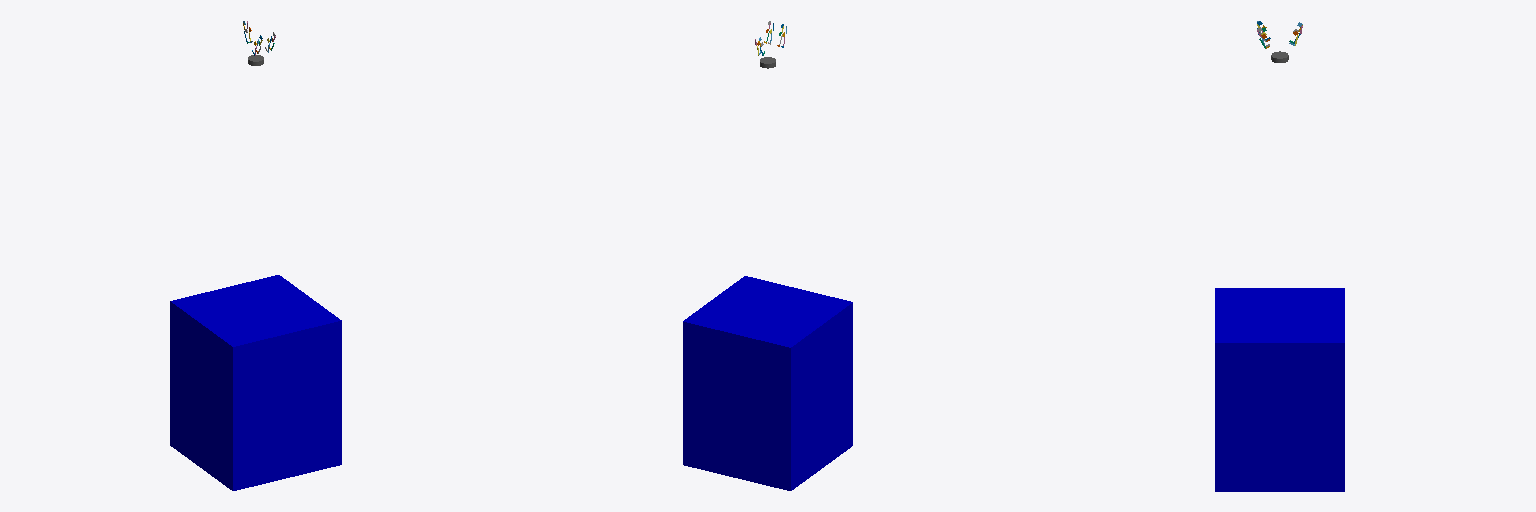
--- What the picture shows (computed from the rendered views, not written in the file) ---
Views: 3 orthographic renders of the robot side by side, from view 1: azimuth 30°, elevation 25°; view 2: azimuth 150°, elevation 25°; view 3: azimuth 270°, elevation 25°.
Model iiwa_3finger with 51 links and 50 joints (46 revolute, 4 fixed), rooted at world, posed every joint at zero.
Links seen in each view (by area): view 1: world; view 2: world; view 3: world.
Link boxes in pixels (x1,y1,x2,y2): world: [170, 275, 341, 490]; world: [683, 276, 852, 490]; world: [1215, 288, 1344, 491].
Size in the robot's own frame: 0.6 by 0.6 by 2.25 metres.
Meshes: 14 distinct files referenced, 1 mesh visuals loaded (1 binary STL); not drawn: 21 (reference not matched to a file when rendering).

The robot description file, URDF, robot "iiwa_3finger":
<?xml version="1.0" ?>
<!-- =================================================================================== -->
<!-- |    This document was autogenerated by xacro from iiwa_3finger.urdf.xacro        | -->
<!-- |    EDITING THIS FILE BY HAND IS NOT RECOMMENDED                                 | -->
<!-- =================================================================================== -->
<!-- Here we define the robot, we named it "iiwa14_3finger_gripper" -->
<robot name="iiwa_3finger" xmlns:xacro="http://www.ros.org/wiki/xacro">
  <!--Import the iiwa14 macro -->
  <!-- Import all Gazebo-customization elements, including Gazebo colors -->
  <!-- Import Transmissions -->
  <!-- Include Utilities -->
  <!-- The following macros are adapted from the LWR 4 definitions of the RCPRG - https://github.com/RCPRG-ros-pkg/lwr_robot -->
  <!--Little helper macros to define the inertia matrix needed for links.-->
  <!--Cuboid-->
  <!--Cylinder: length is along the y-axis! -->
  <!-- some constants -->
  <!-- Import Rviz colors -->
  <material name="Black">
    <color rgba="0.0 0.0 0.0 1.0"/>
  </material>
  <material name="Blue">
    <color rgba="0.0 0.0 0.8 1.0"/>
  </material>
  <material name="Green">
    <color rgba="0.0 0.8 0.0 1.0"/>
  </material>
  <material name="Grey">
    <color rgba="0.4 0.4 0.4 1.0"/>
  </material>
  <material name="Orange">
    <color rgba="1.0 0.423529411765 0.0392156862745 1.0"/>
  </material>
  <material name="Brown">
    <color rgba="0.870588235294 0.811764705882 0.764705882353 1.0"/>
  </material>
  <material name="Red">
    <color rgba="0.8 0.0 0.0 1.0"/>
  </material>
  <material name="White">
    <color rgba="1.0 1.0 1.0 1.0"/>
  </material>
  <!--Build finger model -->
  <!--  Arguments for the iiwa14 macro  -->
  <!-- xacro:arg name="prefix" default=""/-->
  <!--  Define the origin of your 3D space
  Here we define a box lying at 0,0,0 with some dimensions, in reality our robot is place on top of a metal cart with those dimensions.
  This will include the cart in the scene and avoid the robot to hit it when using MoveIt! 
  If you don't want to have that you can define a basic world link (see commented lines)
  -->
  <!--     <link name="world"/> -->
  <link name="world">
    <visual>
      <origin rpy="0 0 0" xyz="0 0 0.38"/>
      <geometry>
        <box size="0.60 0.60 0.76"/>
      </geometry>
      <material name="Blue">
      </material>
    </visual>
    <collision>
      <origin rpy="0 0 0" xyz="0 0 0.38"/>
      <geometry>
        <box size="0.60 0.60 0.76"/>
      </geometry>
      <material name="Blue">
      </material>
    </collision>
  </link>
  <gazebo reference="world">
    <static>true</static>
  </gazebo>
  <!-- Here we insert an iiwa14 robot in the scene, it's origin is just on top of the box previously defined. You can use 0,0,0 if you don't have that. -->
  <!--joint between {parent} and link_0-->
  <joint name="world_iiwa_joint" type="fixed">
    <origin rpy="0 0 0" xyz="0 0 0.76"/>
    <parent link="world"/>
    <child link="iiwa_link_0"/>
  </joint>
  <link name="iiwa_link_0">
    <inertial>
      <origin rpy="0 0 0" xyz="-0.1 0 0.07"/>
      <mass value="5"/>
      <inertia ixx="0.05" ixy="0" ixz="0" iyy="0.06" iyz="0" izz="0.03"/>
    </inertial>
    <visual>
      <origin rpy="0 0 0" xyz="0 0 0"/>
      <geometry>
        <mesh filename="package://iiwa_description/meshes/iiwa14/visual/link_0.stl"/>
      </geometry>
      <material name="Grey"/>
    </visual>
    <collision>
      <origin rpy="0 0 0" xyz="0 0 0"/>
      <geometry>
        <mesh filename="package://iiwa_description/meshes/iiwa14/collision/link_0.stl"/>
      </geometry>
      <material name="Grey"/>
    </collision>
    <self_collision_checking>
      <origin rpy="0 0 0" xyz="0 0 0"/>
      <geometry>
        <capsule length="0.25" radius="0.15"/>
      </geometry>
    </self_collision_checking>
  </link>
  <!-- joint between link_0 and link_1 -->
  <joint name="iiwa_joint_1" type="revolute">
    <parent link="iiwa_link_0"/>
    <child link="iiwa_link_1"/>
    <origin rpy="0 0 0" xyz="0 0 0.1575"/>
    <axis xyz="0 0 1"/>
    <limit effort="300" lower="-2.96705972839" upper="2.96705972839" velocity="10"/>
    <safety_controller k_position="100" k_velocity="2" soft_lower_limit="-2.93215314335" soft_upper_limit="2.93215314335"/>
    <dynamics damping="0.5"/>
  </joint>
  <link name="iiwa_link_1">
    <inertial>
      <origin rpy="0 0 0" xyz="0 -0.03 0.12"/>
      <mass value="4"/>
      <inertia ixx="0.1" ixy="0" ixz="0" iyy="0.09" iyz="0" izz="0.02"/>
    </inertial>
    <visual>
      <origin rpy="0 0 0" xyz="0 0 0"/>
      <geometry>
        <mesh filename="package://iiwa_description/meshes/iiwa14/visual/link_1.stl"/>
      </geometry>
      <material name="Orange"/>
    </visual>
    <collision>
      <origin rpy="0 0 0" xyz="0 0 0"/>
      <geometry>
        <mesh filename="package://iiwa_description/meshes/iiwa14/collision/link_1.stl"/>
      </geometry>
      <material name="Orange"/>
    </collision>
  </link>
  <!-- joint between link_1 and link_2 -->
  <joint name="iiwa_joint_2" type="revolute">
    <parent link="iiwa_link_1"/>
    <child link="iiwa_link_2"/>
    <origin rpy="1.57079632679   0 3.14159265359" xyz="0 0 0.2025"/>
    <axis xyz="0 0 1"/>
    <limit effort="300" lower="-2.09439510239" upper="2.09439510239" velocity="10"/>
    <safety_controller k_position="100" k_velocity="2" soft_lower_limit="-2.05948851735" soft_upper_limit="2.05948851735"/>
    <dynamics damping="0.5"/>
  </joint>
  <link name="iiwa_link_2">
    <inertial>
      <origin rpy="0 0 0" xyz="0.0003 0.059 0.042"/>
      <mass value="4"/>
      <inertia ixx="0.05" ixy="0" ixz="0" iyy="0.018" iyz="0" izz="0.044"/>
    </inertial>
    <visual>
      <origin rpy="0 0 0" xyz="0 0 0"/>
      <geometry>
        <mesh filename="package://iiwa_description/meshes/iiwa14/visual/link_2.stl"/>
      </geometry>
      <material name="Orange"/>
    </visual>
    <collision>
      <origin rpy="0 0 0" xyz="0 0 0"/>
      <geometry>
        <mesh filename="package://iiwa_description/meshes/iiwa14/collision/link_2.stl"/>
      </geometry>
      <material name="Orange"/>
    </collision>
  </link>
  <!-- joint between link_2 and link_3 -->
  <joint name="iiwa_joint_3" type="revolute">
    <parent link="iiwa_link_2"/>
    <child link="iiwa_link_3"/>
    <origin rpy="1.57079632679 0 3.14159265359" xyz="0 0.2045 0"/>
    <axis xyz="0 0 1"/>
    <limit effort="300" lower="-2.96705972839" upper="2.96705972839" velocity="10"/>
    <safety_controller k_position="100" k_velocity="2" soft_lower_limit="-2.93215314335" soft_upper_limit="2.93215314335"/>
    <dynamics damping="0.5"/>
  </joint>
  <link name="iiwa_link_3">
    <inertial>
      <origin rpy="0 0 0" xyz="0 0.03 0.13"/>
      <mass value="3"/>
      <inertia ixx="0.08" ixy="0" ixz="0" iyy="0.075" iyz="0" izz="0.01"/>
    </inertial>
    <visual>
      <origin rpy="0 0 0" xyz="0 0 0"/>
      <geometry>
        <mesh filename="package://iiwa_description/meshes/iiwa14/visual/link_3.stl"/>
      </geometry>
      <material name="Orange"/>
    </visual>
    <collision>
      <origin rpy="0 0 0" xyz="0 0 0"/>
      <geometry>
        <mesh filename="package://iiwa_description/meshes/iiwa14/collision/link_3.stl"/>
      </geometry>
      <material name="Orange"/>
    </collision>
  </link>
  <!-- joint between link_3 and link_4 -->
  <joint name="iiwa_joint_4" type="revolute">
    <parent link="iiwa_link_3"/>
    <child link="iiwa_link_4"/>
    <origin rpy="1.57079632679 0 0" xyz="0 0 0.2155"/>
    <axis xyz="0 0 1"/>
    <limit effort="300" lower="-2.09439510239" upper="2.09439510239" velocity="10"/>
    <safety_controller k_position="100" k_velocity="2" soft_lower_limit="-2.05948851735" soft_upper_limit="2.05948851735"/>
    <dynamics damping="0.5"/>
  </joint>
  <link name="iiwa_link_4">
    <inertial>
      <origin rpy="0 0 0" xyz="0 0.067 0.034"/>
      <mass value="2.7"/>
      <inertia ixx="0.03" ixy="0" ixz="0" iyy="0.01" iyz="0" izz="0.029"/>
    </inertial>
    <visual>
      <origin rpy="0 0 0" xyz="0 0 0"/>
      <geometry>
        <mesh filename="package://iiwa_description/meshes/iiwa14/visual/link_4.stl"/>
      </geometry>
      <material name="Orange"/>
    </visual>
    <collision>
      <origin rpy="0 0 0" xyz="0 0 0"/>
      <geometry>
        <mesh filename="package://iiwa_description/meshes/iiwa14/collision/link_4.stl"/>
      </geometry>
      <material name="Orange"/>
    </collision>
  </link>
  <!-- joint between link_4 and link_5 -->
  <joint name="iiwa_joint_5" type="revolute">
    <parent link="iiwa_link_4"/>
    <child link="iiwa_link_5"/>
    <origin rpy="-1.57079632679 3.14159265359 0" xyz="0 0.1845 0"/>
    <axis xyz="0 0 1"/>
    <limit effort="300" lower="-2.96705972839" upper="2.96705972839" velocity="10"/>
    <safety_controller k_position="100" k_velocity="2" soft_lower_limit="-2.93215314335" soft_upper_limit="2.93215314335"/>
    <dynamics damping="0.5"/>
  </joint>
  <link name="iiwa_link_5">
    <inertial>
      <origin rpy="0 0 0" xyz="0.0001 0.021 0.076"/>
      <mass value="1.7"/>
      <inertia ixx="0.02" ixy="0" ixz="0" iyy="0.018" iyz="0" izz="0.005"/>
    </inertial>
    <visual>
      <origin rpy="0 0 0" xyz="0 0 0"/>
      <geometry>
        <mesh filename="package://iiwa_description/meshes/iiwa14/visual/link_5.stl"/>
      </geometry>
      <material name="Orange"/>
    </visual>
    <collision>
      <origin rpy="0 0 0" xyz="0 0 0"/>
      <geometry>
        <mesh filename="package://iiwa_description/meshes/iiwa14/collision/link_5.stl"/>
      </geometry>
      <material name="Orange"/>
    </collision>
  </link>
  <!-- joint between link_5 and link_6 -->
  <joint name="iiwa_joint_6" type="revolute">
    <parent link="iiwa_link_5"/>
    <child link="iiwa_link_6"/>
    <origin rpy="1.57079632679 0 0" xyz="0 0 0.2155"/>
    <axis xyz="0 0 1"/>
    <limit effort="300" lower="-2.09439510239" upper="2.09439510239" velocity="10"/>
    <safety_controller k_position="100" k_velocity="2" soft_lower_limit="-2.05948851735" soft_upper_limit="2.05948851735"/>
    <dynamics damping="0.5"/>
  </joint>
  <link name="iiwa_link_6">
    <inertial>
      <origin rpy="0 0 0" xyz="0 0.0006 0.0004"/>
      <mass value="1.8"/>
      <inertia ixx="0.005" ixy="0" ixz="0" iyy="0.0036" iyz="0" izz="0.0047"/>
    </inertial>
    <visual>
      <origin rpy="0 0 0" xyz="0 0 0"/>
      <geometry>
        <mesh filename="package://iiwa_description/meshes/iiwa14/visual/link_6.stl"/>
      </geometry>
      <material name="Orange"/>
    </visual>
    <collision>
      <origin rpy="0 0 0" xyz="0 0 0"/>
      <geometry>
        <mesh filename="package://iiwa_description/meshes/iiwa14/collision/link_6.stl"/>
      </geometry>
      <material name="Orange"/>
    </collision>
  </link>
  <!-- joint between link_6 and link_7 -->
  <joint name="iiwa_joint_7" type="revolute">
    <parent link="iiwa_link_6"/>
    <child link="iiwa_link_7"/>
    <origin rpy="-1.57079632679 3.14159265359 0" xyz="0 0.081 0"/>
    <axis xyz="0 0 1"/>
    <limit effort="300" lower="-3.05432619099" upper="3.05432619099" velocity="10"/>
    <safety_controller k_position="100" k_velocity="2" soft_lower_limit="-3.01941960595" soft_upper_limit="3.01941960595"/>
    <dynamics damping="0.5"/>
  </joint>
  <link name="iiwa_link_7">
    <inertial>
      <origin rpy="0 0 0" xyz="0 0 0.02"/>
      <mass value="0.3"/>
      <inertia ixx="0.001" ixy="0" ixz="0" iyy="0.001" iyz="0" izz="0.001"/>
    </inertial>
    <visual>
      <origin rpy="0 0 0" xyz="0 0 0"/>
      <geometry>
        <mesh filename="package://iiwa_description/meshes/iiwa14/visual/link_7.stl"/>
      </geometry>
      <material name="Grey"/>
    </visual>
    <collision>
      <origin rpy="0 0 0" xyz="0 0 0"/>
      <geometry>
        <mesh filename="package://iiwa_description/meshes/iiwa14/collision/link_7.stl"/>
      </geometry>
      <material name="Grey"/>
    </collision>
  </link>
  <joint name="iiwa_joint_ee" type="fixed">
    <parent link="iiwa_link_7"/>
    <child link="iiwa_link_ee"/>
    <origin rpy="0 0 0" xyz="0 0 0.045"/>
  </joint>
  <link name="iiwa_link_ee">
    </link>
  <!--Extensions -->
  <!-- Load Gazebo lib and set the robot namespace -->
  <gazebo>
    <plugin filename="libgazebo_ros_control.so" name="gazebo_ros_control">
      <robotNamespace>/iiwa</robotNamespace>
    </plugin>
  </gazebo>
  <!-- Link0 -->
  <gazebo reference="iiwa_link_0">
    <material>Gazebo/Grey</material>
    <mu1>0.2</mu1>
    <mu2>0.2</mu2>
  </gazebo>
  <!-- Link1 -->
  <gazebo reference="iiwa_link_1">
    <material>Gazebo/Orange</material>
    <mu1>0.2</mu1>
    <mu2>0.2</mu2>
  </gazebo>
  <!-- Link2 -->
  <gazebo reference="iiwa_link_2">
    <material>Gazebo/Orange</material>
    <mu1>0.2</mu1>
    <mu2>0.2</mu2>
  </gazebo>
  <!-- Link3 -->
  <gazebo reference="iiwa_link_3">
    <material>Gazebo/Orange</material>
    <mu1>0.2</mu1>
    <mu2>0.2</mu2>
  </gazebo>
  <!-- Link4 -->
  <gazebo reference="iiwa_link_4">
    <material>Gazebo/Orange</material>
    <mu1>0.2</mu1>
    <mu2>0.2</mu2>
  </gazebo>
  <!-- Link5 -->
  <gazebo reference="iiwa_link_5">
    <material>Gazebo/Orange</material>
    <mu1>0.2</mu1>
    <mu2>0.2</mu2>
  </gazebo>
  <!-- Link6 -->
  <gazebo reference="iiwa_link_6">
    <material>Gazebo/Orange</material>
    <mu1>0.2</mu1>
    <mu2>0.2</mu2>
  </gazebo>
  <!-- Link7 -->
  <gazebo reference="iiwa_link_7">
    <material>Gazebo/Grey</material>
    <mu1>0.2</mu1>
    <mu2>0.2</mu2>
  </gazebo>
  <transmission name="iiwa_tran_1">
    <robotNamespace>/iiwa</robotNamespace>
    <type>transmission_interface/SimpleTransmission</type>
    <joint name="iiwa_joint_1">
      <hardwareInterface>PositionJointInterface</hardwareInterface>
    </joint>
    <actuator name="iiwa_motor_1">
      <hardwareInterface>PositionJointInterface</hardwareInterface>
      <mechanicalReduction>1</mechanicalReduction>
    </actuator>
  </transmission>
  <transmission name="iiwa_tran_2">
    <robotNamespace>/iiwa</robotNamespace>
    <type>transmission_interface/SimpleTransmission</type>
    <joint name="iiwa_joint_2">
      <hardwareInterface>PositionJointInterface</hardwareInterface>
    </joint>
    <actuator name="iiwa_motor_2">
      <hardwareInterface>PositionJointInterface</hardwareInterface>
      <mechanicalReduction>1</mechanicalReduction>
    </actuator>
  </transmission>
  <transmission name="iiwa_tran_3">
    <robotNamespace>/iiwa</robotNamespace>
    <type>transmission_interface/SimpleTransmission</type>
    <joint name="iiwa_joint_3">
      <hardwareInterface>PositionJointInterface</hardwareInterface>
    </joint>
    <actuator name="iiwa_motor_3">
      <hardwareInterface>PositionJointInterface</hardwareInterface>
      <mechanicalReduction>1</mechanicalReduction>
    </actuator>
  </transmission>
  <transmission name="iiwa_tran_4">
    <robotNamespace>/iiwa</robotNamespace>
    <type>transmission_interface/SimpleTransmission</type>
    <joint name="iiwa_joint_4">
      <hardwareInterface>PositionJointInterface</hardwareInterface>
    </joint>
    <actuator name="iiwa_motor_4">
      <hardwareInterface>PositionJointInterface</hardwareInterface>
      <mechanicalReduction>1</mechanicalReduction>
    </actuator>
  </transmission>
  <transmission name="iiwa_tran_5">
    <robotNamespace>/iiwa</robotNamespace>
    <type>transmission_interface/SimpleTransmission</type>
    <joint name="iiwa_joint_5">
      <hardwareInterface>PositionJointInterface</hardwareInterface>
    </joint>
    <actuator name="iiwa_motor_5">
      <hardwareInterface>PositionJointInterface</hardwareInterface>
      <mechanicalReduction>1</mechanicalReduction>
    </actuator>
  </transmission>
  <transmission name="iiwa_tran_6">
    <robotNamespace>/iiwa</robotNamespace>
    <type>transmission_interface/SimpleTransmission</type>
    <joint name="iiwa_joint_6">
      <hardwareInterface>PositionJointInterface</hardwareInterface>
    </joint>
    <actuator name="iiwa_motor_6">
      <hardwareInterface>PositionJointInterface</hardwareInterface>
      <mechanicalReduction>1</mechanicalReduction>
    </actuator>
  </transmission>
  <transmission name="iiwa_tran_7">
    <robotNamespace>/iiwa</robotNamespace>
    <type>transmission_interface/SimpleTransmission</type>
    <joint name="iiwa_joint_7">
      <hardwareInterface>PositionJointInterface</hardwareInterface>
    </joint>
    <actuator name="iiwa_motor_7">
      <hardwareInterface>PositionJointInterface</hardwareInterface>
      <mechanicalReduction>1</mechanicalReduction>
    </actuator>
  </transmission>
  <!-- Tool properties -->
  <!--  Here we define a fixed joint between the tip of the iiwa14 and the base of coupling. 
  There is no offset between the two, that means the coupling is attached at the robot flange. -->
  <joint name="tool_joint" type="fixed">
    <parent link="iiwa_link_ee"/>
    <child link="coupling_link"/>
    <origin rpy="1.57079632679 0 0" xyz="-0.04 0.04 0.0"/>
  </joint>
  <!-- Here we define the geometry of the coupling. the mass, center of gravity, inertial were unknown -->
  <link name="coupling_link">
    <visual>
      <origin rpy="0 0 0" xyz="0 0 0"/>
      <geometry>
        <mesh filename="package://iiwa_3finger_description/meshes/visual/coupling.STL"/>
      </geometry>
      <material name="Grey">
        <!--color rgba="0 1 0 1"/-->
      </material>
    </visual>
    <collision>
      <origin rpy="0 0 0" xyz="0 0 0"/>
      <geometry>
        <mesh filename="package://iiwa_3finger_description/meshes/collision/coupling.STL"/>
      </geometry>
      <material name="Grey">
        <!--color rgba="0 1 1 1"/-->
      </material>
    </collision>
    <inertial>
      <mass value="0.1"/>
      <origin xyz="0 0 0"/>
      <inertia ixx="0.0" ixy="0" ixz="0" iyy="0.0" iyz="0" izz="0.0"/>
    </inertial>
  </link>
  <!--  Here we define another fixed joint. It is placed at the end of the coupling-->
  <joint name="couling_joint" type="fixed">
    <parent link="coupling_link"/>
    <child link="palm"/>
    <origin rpy="1.57079632679 1.57079632679 1.57079632679" xyz="0.04 0.07 0.04"/>
  </joint>
  <!-- Insert the fingers -->
  <!-- Link list -->
  <!-- Link 0 -->
  <link name="finger_1_link_0">
    <visual>
      <origin rpy="0 0 0" xyz="0 0 0"/>
      <geometry>
        <mesh filename="package://iiwa_3finger_description/meshes/visual/link_0.STL"/>
      </geometry>
      <material name="Grey">
        <!-- <color rgba="0 1 0 1"/> -->
      </material>
    </visual>
    <collision>
      <origin rpy="0 0 0" xyz="0 0 0"/>
      <geometry>
        <mesh filename="package://iiwa_3finger_description/meshes/collision/link_0.STL"/>
      </geometry>
      <material name="Grey">
        <!-- <color rgba="0 1 1 1"/> -->
      </material>
    </collision>
    <inertial>
      <mass value="0.1"/>
      <origin xyz="-0.01 0 0"/>
      <inertia ixx="0.000018" ixy="0" ixz="0" iyy="0.000025" iyz="0" izz="0.000025"/>
    </inertial>
  </link>
  <gazebo reference="finger_1_link_0">
    <mu1>1.1</mu1>
    <mu2>1.1</mu2>
  </gazebo>
  <!-- Link 1 -->
  <link name="finger_1_link_1">
    <visual>
      <origin rpy="0 0 1.5708" xyz="0 0.05717 0"/>
      <geometry>
        <mesh filename="package://iiwa_3finger_description/meshes/visual/link_1.STL"/>
      </geometry>
      <material name="Grey"/>
    </visual>
    <collision>
      <origin rpy="0 0 1.5708" xyz="0 0.05717 0"/>
      <geometry>
        <mesh filename="package://iiwa_3finger_description/meshes/collision/link_1.STL"/>
      </geometry>
      <material name="Grey">
        <!-- <color rgba="0 1 1 1"/> -->
      </material>
    </collision>
    <inertial>
      <origin rpy="0 0 1.5708" xyz="0.00053 0.03218 0"/>
      <mass value="0.047"/>
      <inertia ixx="0.00000499332" ixy="0.00000091312" ixz="-0.00000000120" iyy="0.00006434531" iyz="-0.00000000007" izz="0.00006061917"/>
    </inertial>
  </link>
  <gazebo reference="finger_1_link_1">
    <mu1>1.1</mu1>
    <mu2>1.1</mu2>
    <minDepth>0.001</minDepth>
  </gazebo>
  <!-- Link 2 -->
  <link name="finger_1_link_2">
    <visual>
      <origin rpy="0 0 1.5708" xyz="0 0.03810 0.0075"/>
      <geometry>
        <mesh filename="package://iiwa_3finger_description/meshes/visual/link_2.STL"/>
      </geometry>
      <material name="Grey"/>
    </visual>
    <collision>
      <origin rpy="0 0 1.5708" xyz="0 0.03810 0.0075"/>
      <geometry>
        <mesh filename="package://iiwa_3finger_description/meshes/collision/link_2.STL"/>
      </geometry>
      <material name="Grey"/>
    </collision>
    <inertial>
      <origin rpy="0 0 1.5708" xyz="0.00048 0.02167 0.00018"/>
      <mass value="0.03284"/>
      <inertia ixx="0.00000348008" ixy="0.00000031940" ixz="0.00000013041" iyy="0.00002248123" iyz="0.00000000291" izz="0.00001986346"/>
    </inertial>
  </link>
  <gazebo reference="finger_1_link_2">
    <mu1>1.1</mu1>
    <mu2>1.1</mu2>
    <minDepth>0.001</minDepth>
  </gazebo>
  <!-- Link 3 -->
  <link name="finger_1_link_3">
    <visual>
      <origin rpy="0 0 0" xyz="0 0 0"/>
      <geometry>
        <mesh filename="package://iiwa_3finger_description/meshes/visual/link_3.STL"/>
      </geometry>
      <material name="Grey"/>
    </visual>
    <collision>
      <origin rpy="0 0 0" xyz="0 0 0"/>
      <geometry>
        <mesh filename="package://iiwa_3finger_description/meshes/collision/link_3.STL"/>
      </geometry>
      <material name="Grey"/>
    </collision>
    <inertial>
      <origin rpy="0 0 0" xyz="0.01626 0.00049 0.0002"/>
      <mass value="0.03354"/>
      <inertia ixx="0.00000305151" ixy="0.00000089792" ixz="0.00000000249" iyy="0.00001427978" iyz="-0.00000001191" izz="0.00001264126"/>
    </inertial>
  </link>
  <gazebo reference="finger_1_link_3">
    <mu1>1.1</mu1>
    <mu2>1.1</mu2>
    <minDepth>0.001</minDepth>
  </gazebo>
  <!-- Link proximal actuating hinge -->
  <link name="finger_1_link_proximal_actuating_hinge">
    <visual>
      <origin rpy="0 0 0" xyz="0.01429 0 0"/>
      <geometry>
        <box size="0.02858 .0075 .002"/>
      </geometry>
    </visual>
    <collision>
      <origin rpy="0 0 0" xyz="0.01429 0 0"/>
      <geometry>
        <box size="0.02858 .0075 .002"/>
      </geometry>
    </collision>
    <inertial>
      <origin rpy="0 0 0" xyz="0.0012 -0.00162 -0.00161"/>
      <mass value="0.02647"/>
      <inertia ixx="0.00000156447" ixy="0.000000236226" ixz="-0.00000014862" iyy="0.00000221068" iyz="-0.00000014369" izz="0.00000323175"/>
    </inertial>
  </link>
  <gazebo reference="finger_1_link_proximal_actuating_hinge">
    <mu1>1.1</mu1>
    <mu2>1.1</mu2>
  </gazebo>
  <!-- Link paraproximal actuating hinge -->
  <link name="finger_1_link_paraproximal_actuating_hinge">
    <visual>
      <origin rpy="0 0 0" xyz="0.01143 0 0"/>
      <geometry>
        <box size="0.02286 .0075 .002"/>
      </geometry>
    </visual>
    <collision>
      <origin rpy="0 0 0" xyz="0.01143 0 0"/>
      <geometry>
        <box size="0.02286 .0075 .002"/>
      </geometry>
    </collision>
    <inertial>
      <origin rpy="0 0 0" xyz="0.0064 0 0"/>
      <!-- copied from proximal_actuating_hinge -->
      <mass value="0.00362"/>
      <inertia ixx="0.00000012043" ixy="0" ixz="0" iyy="0.00000053588" iyz="0" izz="0.00000065322"/>
    </inertial>
  </link>
  <gazebo reference="finger_1_link_paraproximal_actuating_hinge">
    <mu1>1.1</mu1>
    <mu2>1.1</mu2>
  </gazebo>
  <!-- Link proximal actuating bar -->
  <link name="finger_1_link_proximal_actuating_bar">
    <visual>
      <origin rpy="0 0 0" xyz="0.026789 0 0"/>
      <geometry>
        <box size="0.05398 .0075 .002"/>
      </geometry>
    </visual>
    <collision>
      <origin rpy="0 0 0" xyz="0.026789 0 0"/>
      <geometry>
        <box size="0.05398 .0075 .002"/>
      </geometry>
    </collision>
    <inertial>
      <origin rpy="0 0 0" xyz="0.02699 -0.00122 0"/>
      <mass value="0.00659"/>
      <inertia ixx="0.00000008348" ixy="-0.0000002179" ixz="0.00000000134" iyy="0.00000719076" iyz="0" izz="0.00000718272"/>
    </inertial>
  </link>
  <gazebo reference="finger_1_link_proximal_actuating_bar">
    <mu1>1.1</mu1>
    <mu2>1.1</mu2>
  </gazebo>
  <!-- Link paraproximal bar -->
  <link name="finger_1_link_paraproximal_bar">
    <visual>
      <origin rpy="0 0 0" xyz="0.02885 0 0"/>
      <geometry>
        <box size="0.05770 .0075 .002"/>
      </geometry>
    </visual>
    <collision>
      <origin rpy="0 0 0" xyz="0.02885 0 0"/>
      <geometry>
        <box size="0.05770 .0075 .002"/>
      </geometry>
    </collision>
    <inertial>
      <origin rpy="0 0 0" xyz="0.02858 -0.00129 0"/>
      <mass value="0.00732"/>
      <inertia ixx="0.00000009065" ixy="-0.00000027047" ixz="0.00000000142" iyy="0.00000878034" iyz="0" izz="0.00000877558"/>
    </inertial>
  </link>
  <gazebo reference="finger_1_link_paraproximal_bar">
    <mu1>1.1</mu1>
    <mu2>1.1</mu2>
  </gazebo>
  <!-- Link median actuating hinge -->
  <link name="finger_1_link_median_actuating_hinge">
    <visual>
      <origin rpy="0 0 0" xyz="0 0 0"/>
      <geometry>
        <box size=".02 .02 .002"/>
      </geometry>
    </visual>
    <collision>
      <origin rpy="0 0 0" xyz="0 0 0"/>
      <geometry>
        <box size=".02 .02 .002"/>
      </geometry>
    </collision>
    <inertial>
      <origin rpy="0 0 0" xyz="0.0092 0.00514 0"/>
      <mass value="0.00359"/>
      <inertia ixx="0.00000024735" ixy="0.00000023619" ixz="0" iyy="0.00000047681" iyz="0" izz="0.00000071813"/>
    </inertial>
  </link>
  <gazebo reference="finger_1_link_median_actuating_hinge">
    <mu1>1.1</mu1>
    <mu2>1.1</mu2>
  </gazebo>
  <!-- Link median bar -->
  <link name="finger_1_link_median_bar">
    <visual>
      <origin rpy="0 0 0" xyz="0.01905 0 0"/>
      <geometry>
        <box size="0.0381 .0075 .002"/>
      </geometry>
    </visual>
    <collision>
      <origin rpy="0 0 0" xyz="0.01905 0 0"/>
      <geometry>
        <box size="0.0381 .0075 .002"/>
      </geometry>
    </collision>
    <inertial>
      <origin rpy="0 0 0" xyz="0.01905 -0.00107 0"/>
      <mass value="0.00538"/>
      <inertia ixx="0.00000006639" ixy="-0.00000010996" ixz="0.00000000094" iyy="0.00000305318" iyz="0" izz="0.00000304657"/>
    </inertial>
  </link>
  <gazebo reference="finger_1_link_median_bar">
    <mu1>1.1</mu1>
    <mu2>1.1</mu2>
  </gazebo>
  <!-- Link paramedian hinge -->
  <link name="finger_1_link_paramedian_hinge">
    <visual>
      <origin rpy="0 0 0" xyz="0 0 0"/>
      <geometry>
        <box size=".02 .02 .002"/>
      </geometry>
    </visual>
    <collision>
      <origin rpy="0 0 0" xyz="0 0 0"/>
      <geometry>
        <box size=".02 .02 .002"/>
      </geometry>
    </collision>
    <inertial>
      <origin rpy="0 0 0" xyz="-0.01025 0.00046 0"/>
      <mass value="0.00276"/>
      <inertia ixx="0.00000004213" ixy="-0.00000001491" ixz="0" iyy="0.00000050258" iyz="0" izz="0.00000054007"/>
    </inertial>
  </link>
  <gazebo reference="finger_1_link_paramedian_hinge">
    <mu1>1.1</mu1>
    <mu2>1.1</mu2>
  </gazebo>
  <!-- Link median bar underactuated -->
  <link name="finger_1_link_median_bar_underactuated">
    <visual>
      <origin rpy="0 0 0" xyz="0.01905 0 0"/>
      <geometry>
        <box size="0.0381 .0075 .002"/>
      </geometry>
    </visual>
    <collision>
      <origin rpy="0 0 0" xyz="0.01905 0 0"/>
      <geometry>
        <box size="0.0381 .0075 .002"/>
      </geometry>
    </collision>
    <inertial>
      <origin rpy="0 0 0" xyz="0.01905 -0.00107 0"/>
      <mass value="0.00538"/>
      <inertia ixx="0.00000006639" ixy="-0.00000010996" ixz="-0.00000000094" iyy="0.00000305318" iyz="0" izz="0.00000304657"/>
    </inertial>
  </link>
  <gazebo reference="finger_1_link_median_bar_underactuated">
    <mu1>1.1</mu1>
    <mu2>1.1</mu2>
  </gazebo>
  <!-- Link paradistal hinge -->
  <link name="finger_1_link_paradistal_hinge">
    <visual>
      <origin rpy="0 0 0" xyz="0 0 0"/>
      <geometry>
        <box size=".02 .02 .002"/>
      </geometry>
    </visual>
    <collision>
      <origin rpy="0 0 0" xyz="0 0 0"/>
      <geometry>
        <box size=".02 0.02 .002"/>
      </geometry>
    </collision>
    <inertial>
      <origin rpy="0 0 0" xyz="0.00548 0 0"/>
      <mass value="0.00158"/>
      <inertia ixx="0.00000001907" ixy="0" ixz="0" iyy="0.00000010970" iyz="0" izz="0.00000012610"/>
    </inertial>
  </link>
  <gazebo reference="finger_1_link_paradistal_hinge">
    <mu1>1.1</mu1>
    <mu2>1.1</mu2>
  </gazebo>
  <!-- End of link list -->
  <!-- Joint list -->
  <!-- Joint proximal actuating hinge -->
  <joint name="finger_1_joint_proximal_actuating_hinge" type="revolute">
    <parent link="finger_1_link_0"/>
    <child link="finger_1_link_proximal_actuating_hinge"/>
    <axis xyz="0 0 1"/>
    <origin rpy="0 0 -2.0906" xyz="0 0 0.01"/>
    <limit effort="100" lower="-3.1416" upper="3.1416" velocity="100"/>
  </joint>
  <gazebo reference="finger_1_joint_proximal_actuating_hinge">
    <implicitSpringDamper>1</implicitSpringDamper>
  </gazebo>
  <!-- Joint paraproximal actuating hinge -->
  <joint name="finger_1_joint_paraproximal_actuating_hinge" type="revolute">
    <parent link="finger_1_link_0"/>
    <child link="finger_1_link_paraproximal_actuating_hinge"/>
    <axis xyz="0 0 1"/>
    <origin rpy="0 0 -2.0906" xyz="0 0 -0.01"/>
    <limit effort="100" lower="-3.1416" upper="3.1416" velocity="100"/>
  </joint>
  <gazebo reference="finger_1_joint_paraproximal_actuating_hinge">
    <implicitSpringDamper>1</implicitSpringDamper>
  </gazebo>
  <!-- Joint proximal actuating bar -->
  <joint name="finger_1_joint_proximal_actuating_bar" type="revolute">
    <parent link="finger_1_link_proximal_actuating_hinge"/>
    <child link="finger_1_link_proximal_actuating_bar"/>
    <axis xyz="0 0 1"/>
    <origin rpy="0 0 1.8616" xyz="0.02858 0 0"/>
    <limit effort="100" lower="-3.1416" upper="3.1416" velocity="100"/>
  </joint>
  <gazebo reference="finger_1_joint_proximal_actuating_bar">
    <implicitSpringDamper>1</implicitSpringDamper>
  </gazebo>
  <!-- Joint paraproximal bar -->
  <joint name="finger_1_joint_paraproximal_bar" type="revolute">
    <parent link="finger_1_link_paraproximal_actuating_hinge"/>
    <child link="finger_1_link_paraproximal_bar"/>
    <axis xyz="0 0 1"/>
    <origin rpy="0 0 1.57" xyz="0.02286 0 0"/>
    <limit effort="100" lower="-3.1416" upper="3.1416" velocity="100"/>
  </joint>
  <gazebo reference="finger_1_joint_paraproximal_bar">
    <implicitSpringDamper>1</implicitSpringDamper>
  </gazebo>
  <!-- Joint median actuating hinge -->
  <joint name="finger_1_joint_median_actuating_hinge" type="revolute">
    <parent link="finger_1_link_1"/>
    <child link="finger_1_link_median_actuating_hinge"/>
    <axis xyz="0 0 1"/>
    <origin rpy="0 0 -0.37" xyz="0 0.05715 0.01"/>
    <limit effort="100" lower="-3.1416" upper="3.1416" velocity="100"/>
  </joint>
  <gazebo reference="finger_1_joint_median_actuating_hinge">
    <implicitSpringDamper>1</implicitSpringDamper>
  </gazebo>
  <!-- Joint paramedian hinge -->
  <joint name="finger_1_joint_paramedian_hinge" type="revolute">
    <parent link="finger_1_link_1"/>
    <child link="finger_1_link_paramedian_hinge"/>
    <axis xyz="0 0 1"/>
    <!-- -0.37 is hand picked, 0.9719 is hand calculated from atan(0.02381/0.01625) -->
    <origin rpy="0 0 0" xyz="0 0.05715 -0.01"/>
    <limit effort="100" lower="-3.1416" upper="3.1416" velocity="100"/>
  </joint>
  <gazebo reference="finger_1_joint_paramedian_hinge">
    <implicitSpringDamper>1</implicitSpringDamper>
  </gazebo>
  <!-- Joint median actuating hinge median bar -->
  <joint name="finger_1_joint_median_actuating_hinge_median_bar" type="revolute">
    <parent link="finger_1_link_median_actuating_hinge"/>
    <child link="finger_1_link_median_bar"/>
    <axis xyz="0 0 1"/>
    <!-- hand calc 90 deg + atan(0.01516/0.01625) -->
    <origin rpy="0 0 2.3215" xyz="0.01625 0.01516 0"/>
    <limit effort="100" lower="-3.1416" upper="3.1416" velocity="100"/>
  </joint>
  <gazebo reference="finger_1_joint_median_actuating_hinge_median_bar">
    <implicitSpringDamper>1</implicitSpringDamper>
  </gazebo>
  <!-- Joint paradistal hinge -->
  <joint name="finger_1_joint_paradistal_hinge" type="revolute">
    <parent link="finger_1_link_2"/>
    <child link="finger_1_link_paradistal_hinge"/>
    <axis xyz="0 0 1"/>
    <origin rpy="0 0 0" xyz="0 0.039 -0.01"/>
    <limit effort="100" lower="-3.1416" upper="3.1416" velocity="100"/>
  </joint>
  <gazebo reference="finger_1_joint_paradistal_hinge">
    <implicitSpringDamper>1</implicitSpringDamper>
  </gazebo>
  <!-- Joint paramedian hinge median bar underactuated -->
  <joint name="finger_1_joint_paramedian_hinge_median_bar_underactuated" type="revolute">
    <parent link="finger_1_link_paramedian_hinge"/>
    <child link="finger_1_link_median_bar_underactuated"/>
    <axis xyz="0 0 1"/>
    <!-- hand calc 90 deg + atan(0.01227/0.00329) -->
    <origin rpy="0 0 1.5708" xyz="0.01227 0.00329 0"/>
    <limit effort="100" lower="-3.1416" upper="3.1416" velocity="100"/>
  </joint>
  <gazebo reference="finger_1_joint_paramedian_hinge_median_bar_underactuated">
    <implicitSpringDamper>1</implicitSpringDamper>
  </gazebo>
  <!-- Joint 1 -->
  <joint name="finger_1_joint_1" type="revolute">
    <origin rpy="0 0 -2.0906" xyz="0 0 0"/>
    <axis xyz="0 0 1"/>
    <parent link="finger_1_link_0"/>
    <child link="finger_1_link_1"/>
    <dynamics damping="1" friction="0"/>
    <!-- Limits: [0deg.,70deg.] -->
    <limit effort="60" lower="0" upper="1.2217" velocity="-1"/>
  </joint>
  <gazebo reference="finger_1_joint_1">
    <implicitSpringDamper>1</implicitSpringDamper>
  </gazebo>
  <!-- Joint 2 -->
  <joint name="finger_1_joint_2" type="revolute">
    <parent link="finger_1_link_1"/>
    <child link="finger_1_link_2"/>
    <dynamics damping="1" friction="0"/>
    <axis xyz="0 0 1"/>
    <origin rpy="0 0 0" xyz="0 0.05715 0"/>
    <!-- Limits: [0deg.,90deg.] -->
    <limit effort="60" lower="0" upper="1.5708" velocity="-1"/>
  </joint>
  <gazebo reference="finger_1_joint_2">
    <implicitSpringDamper>1</implicitSpringDamper>
  </gazebo>
  <!-- Joint 3 -->
  <joint name="finger_1_joint_3" type="revolute">
    <parent link="finger_1_link_2"/>
    <child link="finger_1_link_3"/>
    <dynamics damping="1" friction="0"/>
    <axis xyz="0 0 1"/>
    <origin rpy="0 0 2.0906" xyz="0 0.039 0"/>
    <!-- Limits: [-38deg.,60deg.] -->
    <limit effort="60" lower="-0.6632" upper="1.0471" velocity="-1"/>
  </joint>
  <gazebo reference="finger_1_joint_3">
    <implicitSpringDamper>1</implicitSpringDamper>
  </gazebo>
  <!-- end of joint list -->
  <!-- coupling joints in sdf -->
  <gazebo>
    <joint name="finger_1_link_proximal_actuating_bar_median_actuating_hinge_couple" type="revolute">
      <parent>finger_1_link_median_actuating_hinge</parent>
      <child>finger_1_link_proximal_actuating_bar</child>
      <pose>0.05398 0 0 0 0 0</pose>
      <axis>
        <dynamics>
          <damping>0</damping>
          <friction>0</friction>
        </dynamics>
        <xyz>0 0 1</xyz>
        <use_parent_model_frame>false</use_parent_model_frame>
      </axis>
    </joint>
  </gazebo>
  <gazebo reference="finger_1_link_proximal_actuating_bar_median_actuating_hinge_couple">
    <implicitSpringDamper>1</implicitSpringDamper>
  </gazebo>
  <gazebo>
    <joint name="finger_1_link_median_bar_link_3_couple" type="revolute">
      <parent>finger_1_link_3</parent>
      <child>finger_1_link_median_bar</child>
      <pose>0.0381 0 0 0 0 0</pose>
      <axis>
        <dynamics>
          <damping>0</damping>
          <friction>0</friction>
        </dynamics>
        <xyz>0 0 1</xyz>
        <use_parent_model_frame>false</use_parent_model_frame>
      </axis>
    </joint>
  </gazebo>
  <gazebo reference="finger_1_link_median_bar_link_3_couple">
    <implicitSpringDamper>1</implicitSpringDamper>
  </gazebo>
  <gazebo>
    <joint name="finger_1_link_paramedian_bar_paradistal_hinge_couple" type="revolute">
      <parent>finger_1_link_paradistal_hinge</parent>
      <child>finger_1_link_median_bar_underactuated</child>
      <pose>0.0381 0 0 0 0 0</pose>
      <axis>
        <dynamics>
          <damping>0</damping>
          <friction>0</friction>
        </dynamics>
        <xyz>0 0 1</xyz>
        <use_parent_model_frame>false</use_parent_model_frame>
      </axis>
    </joint>
  </gazebo>
  <gazebo reference="finger_1_link_median_bar_link_3_couple">
    <implicitSpringDamper>1</implicitSpringDamper>
  </gazebo>
  <gazebo>
    <joint name="finger_1_link_paradistal_hinge_link_3_couple" type="revolute">
      <parent>finger_1_link_paradistal_hinge</parent>
      <child>finger_1_link_3</child>
      <pose>0.0381 0 0 0 0 0</pose>
      <axis>
        <dynamics>
          <damping>0</damping>
          <friction>0</friction>
        </dynamics>
        <xyz>0 0 1</xyz>
        <use_parent_model_frame>false</use_parent_model_frame>
      </axis>
    </joint>
  </gazebo>
  <gazebo reference="finger_1_link_paradistal_hinge_link_3_couple">
    <implicitSpringDamper>1</implicitSpringDamper>
  </gazebo>
  <gazebo>
    <joint name="finger_1_link_paraproximal_bar_paramedian_hinge_couple" type="revolute">
      <parent>finger_1_link_paramedian_hinge</parent>
      <child>finger_1_link_paraproximal_bar</child>
      <pose>0.05770 0 0 0 0 0</pose>
      <axis>
        <dynamics>
          <damping>0</damping>
          <friction>0</friction>
        </dynamics>
        <xyz>0 0 1</xyz>
        <use_parent_model_frame>false</use_parent_model_frame>
      </axis>
    </joint>
  </gazebo>
  <gazebo reference="finger_1_link_paraproximal_bar_paramedian_hinge_couple">
    <implicitSpringDamper>1</implicitSpringDamper>
  </gazebo>
  
 --&gt;

  
  <!-- Link list -->
  <!-- Link 0 -->
  <link name="finger_2_link_0">
    <visual>
      <origin rpy="0 0 0" xyz="0 0 0"/>
      <geometry>
        <mesh filename="package://iiwa_3finger_description/meshes/visual/link_0.STL"/>
      </geometry>
      <material name="Grey">
        <!-- <color rgba="0 1 0 1"/> -->
      </material>
    </visual>
    <collision>
      <origin rpy="0 0 0" xyz="0 0 0"/>
      <geometry>
        <mesh filename="package://iiwa_3finger_description/meshes/collision/link_0.STL"/>
      </geometry>
      <material name="Grey">
        <!-- <color rgba="0 1 1 1"/> -->
      </material>
    </collision>
    <inertial>
      <mass value="0.1"/>
      <origin xyz="-0.01 0 0"/>
      <inertia ixx="0.000018" ixy="0" ixz="0" iyy="0.000025" iyz="0" izz="0.000025"/>
    </inertial>
  </link>
  <gazebo reference="finger_2_link_0">
    <mu1>1.1</mu1>
    <mu2>1.1</mu2>
  </gazebo>
  <!-- Link 1 -->
  <link name="finger_2_link_1">
    <visual>
      <origin rpy="0 0 1.5708" xyz="0 0.05717 0"/>
      <geometry>
        <mesh filename="package://iiwa_3finger_description/meshes/visual/link_1.STL"/>
      </geometry>
      <material name="Grey"/>
    </visual>
    <collision>
      <origin rpy="0 0 1.5708" xyz="0 0.05717 0"/>
      <geometry>
        <mesh filename="package://iiwa_3finger_description/meshes/collision/link_1.STL"/>
      </geometry>
      <material name="Grey">
        <!-- <color rgba="0 1 1 1"/> -->
      </material>
    </collision>
    <inertial>
      <origin rpy="0 0 1.5708" xyz="0.00053 0.03218 0"/>
      <mass value="0.047"/>
      <inertia ixx="0.00000499332" ixy="0.00000091312" ixz="-0.00000000120" iyy="0.00006434531" iyz="-0.00000000007" izz="0.00006061917"/>
    </inertial>
  </link>
  <gazebo reference="finger_2_link_1">
    <mu1>1.1</mu1>
    <mu2>1.1</mu2>
    <minDepth>0.001</minDepth>
  </gazebo>
  <!-- Link 2 -->
  <link name="finger_2_link_2">
    <visual>
      <origin rpy="0 0 1.5708" xyz="0 0.03810 0.0075"/>
      <geometry>
        <mesh filename="package://iiwa_3finger_description/meshes/visual/link_2.STL"/>
      </geometry>
      <material name="Grey"/>
    </visual>
    <collision>
      <origin rpy="0 0 1.5708" xyz="0 0.03810 0.0075"/>
      <geometry>
        <mesh filename="package://iiwa_3finger_description/meshes/collision/link_2.STL"/>
      </geometry>
      <material name="Grey"/>
    </collision>
    <inertial>
      <origin rpy="0 0 1.5708" xyz="0.00048 0.02167 0.00018"/>
      <mass value="0.03284"/>
      <inertia ixx="0.00000348008" ixy="0.00000031940" ixz="0.00000013041" iyy="0.00002248123" iyz="0.00000000291" izz="0.00001986346"/>
    </inertial>
  </link>
  <gazebo reference="finger_2_link_2">
    <mu1>1.1</mu1>
    <mu2>1.1</mu2>
    <minDepth>0.001</minDepth>
  </gazebo>
  <!-- Link 3 -->
  <link name="finger_2_link_3">
    <visual>
      <origin rpy="0 0 0" xyz="0 0 0"/>
      <geometry>
        <mesh filename="package://iiwa_3finger_description/meshes/visual/link_3.STL"/>
      </geometry>
      <material name="Grey"/>
    </visual>
    <collision>
      <origin rpy="0 0 0" xyz="0 0 0"/>
      <geometry>
        <mesh filename="package://iiwa_3finger_description/meshes/collision/link_3.STL"/>
      </geometry>
      <material name="Grey"/>
    </collision>
    <inertial>
      <origin rpy="0 0 0" xyz="0.01626 0.00049 0.0002"/>
      <mass value="0.03354"/>
      <inertia ixx="0.00000305151" ixy="0.00000089792" ixz="0.00000000249" iyy="0.00001427978" iyz="-0.00000001191" izz="0.00001264126"/>
    </inertial>
  </link>
  <gazebo reference="finger_2_link_3">
    <mu1>1.1</mu1>
    <mu2>1.1</mu2>
    <minDepth>0.001</minDepth>
  </gazebo>
  <!-- Link proximal actuating hinge -->
  <link name="finger_2_link_proximal_actuating_hinge">
    <visual>
      <origin rpy="0 0 0" xyz="0.01429 0 0"/>
      <geometry>
        <box size="0.02858 .0075 .002"/>
      </geometry>
    </visual>
    <collision>
      <origin rpy="0 0 0" xyz="0.01429 0 0"/>
      <geometry>
        <box size="0.02858 .0075 .002"/>
      </geometry>
    </collision>
    <inertial>
      <origin rpy="0 0 0" xyz="0.0012 -0.00162 -0.00161"/>
      <mass value="0.02647"/>
      <inertia ixx="0.00000156447" ixy="0.000000236226" ixz="-0.00000014862" iyy="0.00000221068" iyz="-0.00000014369" izz="0.00000323175"/>
    </inertial>
  </link>
  <gazebo reference="finger_2_link_proximal_actuating_hinge">
    <mu1>1.1</mu1>
    <mu2>1.1</mu2>
  </gazebo>
  <!-- Link paraproximal actuating hinge -->
  <link name="finger_2_link_paraproximal_actuating_hinge">
    <visual>
      <origin rpy="0 0 0" xyz="0.01143 0 0"/>
      <geometry>
        <box size="0.02286 .0075 .002"/>
      </geometry>
    </visual>
    <collision>
      <origin rpy="0 0 0" xyz="0.01143 0 0"/>
      <geometry>
        <box size="0.02286 .0075 .002"/>
      </geometry>
    </collision>
    <inertial>
      <origin rpy="0 0 0" xyz="0.0064 0 0"/>
      <!-- copied from proximal_actuating_hinge -->
      <mass value="0.00362"/>
      <inertia ixx="0.00000012043" ixy="0" ixz="0" iyy="0.00000053588" iyz="0" izz="0.00000065322"/>
    </inertial>
  </link>
  <gazebo reference="finger_2_link_paraproximal_actuating_hinge">
    <mu1>1.1</mu1>
    <mu2>1.1</mu2>
  </gazebo>
  <!-- Link proximal actuating bar -->
  <link name="finger_2_link_proximal_actuating_bar">
    <visual>
      <origin rpy="0 0 0" xyz="0.026789 0 0"/>
      <geometry>
        <box size="0.05398 .0075 .002"/>
      </geometry>
    </visual>
    <collision>
      <origin rpy="0 0 0" xyz="0.026789 0 0"/>
      <geometry>
        <box size="0.05398 .0075 .002"/>
      </geometry>
    </collision>
    <inertial>
      <origin rpy="0 0 0" xyz="0.02699 -0.00122 0"/>
      <mass value="0.00659"/>
      <inertia ixx="0.00000008348" ixy="-0.0000002179" ixz="0.00000000134" iyy="0.00000719076" iyz="0" izz="0.00000718272"/>
    </inertial>
  </link>
  <gazebo reference="finger_2_link_proximal_actuating_bar">
    <mu1>1.1</mu1>
    <mu2>1.1</mu2>
  </gazebo>
  <!-- Link paraproximal bar -->
  <link name="finger_2_link_paraproximal_bar">
    <visual>
      <origin rpy="0 0 0" xyz="0.02885 0 0"/>
      <geometry>
        <box size="0.05770 .0075 .002"/>
      </geometry>
    </visual>
    <collision>
      <origin rpy="0 0 0" xyz="0.02885 0 0"/>
      <geometry>
        <box size="0.05770 .0075 .002"/>
      </geometry>
    </collision>
    <inertial>
      <origin rpy="0 0 0" xyz="0.02858 -0.00129 0"/>
      <mass value="0.00732"/>
      <inertia ixx="0.00000009065" ixy="-0.00000027047" ixz="0.00000000142" iyy="0.00000878034" iyz="0" izz="0.00000877558"/>
    </inertial>
  </link>
  <gazebo reference="finger_2_link_paraproximal_bar">
    <mu1>1.1</mu1>
    <mu2>1.1</mu2>
  </gazebo>
  <!-- Link median actuating hinge -->
  <link name="finger_2_link_median_actuating_hinge">
    <visual>
      <origin rpy="0 0 0" xyz="0 0 0"/>
      <geometry>
        <box size=".02 .02 .002"/>
      </geometry>
    </visual>
    <collision>
      <origin rpy="0 0 0" xyz="0 0 0"/>
      <geometry>
        <box size=".02 .02 .002"/>
      </geometry>
    </collision>
    <inertial>
      <origin rpy="0 0 0" xyz="0.0092 0.00514 0"/>
      <mass value="0.00359"/>
      <inertia ixx="0.00000024735" ixy="0.00000023619" ixz="0" iyy="0.00000047681" iyz="0" izz="0.00000071813"/>
    </inertial>
  </link>
  <gazebo reference="finger_2_link_median_actuating_hinge">
    <mu1>1.1</mu1>
    <mu2>1.1</mu2>
  </gazebo>
  <!-- Link median bar -->
  <link name="finger_2_link_median_bar">
    <visual>
      <origin rpy="0 0 0" xyz="0.01905 0 0"/>
      <geometry>
        <box size="0.0381 .0075 .002"/>
      </geometry>
    </visual>
    <collision>
      <origin rpy="0 0 0" xyz="0.01905 0 0"/>
      <geometry>
        <box size="0.0381 .0075 .002"/>
      </geometry>
    </collision>
    <inertial>
      <origin rpy="0 0 0" xyz="0.01905 -0.00107 0"/>
      <mass value="0.00538"/>
      <inertia ixx="0.00000006639" ixy="-0.00000010996" ixz="0.00000000094" iyy="0.00000305318" iyz="0" izz="0.00000304657"/>
    </inertial>
  </link>
  <gazebo reference="finger_2_link_median_bar">
    <mu1>1.1</mu1>
    <mu2>1.1</mu2>
  </gazebo>
  <!-- Link paramedian hinge -->
  <link name="finger_2_link_paramedian_hinge">
    <visual>
      <origin rpy="0 0 0" xyz="0 0 0"/>
      <geometry>
        <box size=".02 .02 .002"/>
      </geometry>
    </visual>
    <collision>
      <origin rpy="0 0 0" xyz="0 0 0"/>
      <geometry>
        <box size=".02 .02 .002"/>
      </geometry>
    </collision>
    <inertial>
      <origin rpy="0 0 0" xyz="-0.01025 0.00046 0"/>
      <mass value="0.00276"/>
      <inertia ixx="0.00000004213" ixy="-0.00000001491" ixz="0" iyy="0.00000050258" iyz="0" izz="0.00000054007"/>
    </inertial>
  </link>
  <gazebo reference="finger_2_link_paramedian_hinge">
    <mu1>1.1</mu1>
    <mu2>1.1</mu2>
  </gazebo>
  <!-- Link median bar underactuated -->
  <link name="finger_2_link_median_bar_underactuated">
    <visual>
      <origin rpy="0 0 0" xyz="0.01905 0 0"/>
      <geometry>
        <box size="0.0381 .0075 .002"/>
      </geometry>
    </visual>
    <collision>
      <origin rpy="0 0 0" xyz="0.01905 0 0"/>
      <geometry>
        <box size="0.0381 .0075 .002"/>
      </geometry>
    </collision>
    <inertial>
      <origin rpy="0 0 0" xyz="0.01905 -0.00107 0"/>
      <mass value="0.00538"/>
      <inertia ixx="0.00000006639" ixy="-0.00000010996" ixz="-0.00000000094" iyy="0.00000305318" iyz="0" izz="0.00000304657"/>
    </inertial>
  </link>
  <gazebo reference="finger_2_link_median_bar_underactuated">
    <mu1>1.1</mu1>
    <mu2>1.1</mu2>
  </gazebo>
  <!-- Link paradistal hinge -->
  <link name="finger_2_link_paradistal_hinge">
    <visual>
      <origin rpy="0 0 0" xyz="0 0 0"/>
      <geometry>
        <box size=".02 .02 .002"/>
      </geometry>
    </visual>
    <collision>
      <origin rpy="0 0 0" xyz="0 0 0"/>
      <geometry>
        <box size=".02 0.02 .002"/>
      </geometry>
    </collision>
    <inertial>
      <origin rpy="0 0 0" xyz="0.00548 0 0"/>
      <mass value="0.00158"/>
      <inertia ixx="0.00000001907" ixy="0" ixz="0" iyy="0.00000010970" iyz="0" izz="0.00000012610"/>
    </inertial>
  </link>
  <gazebo reference="finger_2_link_paradistal_hinge">
    <mu1>1.1</mu1>
    <mu2>1.1</mu2>
  </gazebo>
  <!-- End of link list -->
  <!-- Joint list -->
  <!-- Joint proximal actuating hinge -->
  <joint name="finger_2_joint_proximal_actuating_hinge" type="revolute">
    <parent link="finger_2_link_0"/>
    <child link="finger_2_link_proximal_actuating_hinge"/>
    <axis xyz="0 0 1"/>
    <origin rpy="0 0 -2.0906" xyz="0 0 0.01"/>
    <limit effort="100" lower="-3.1416" upper="3.1416" velocity="100"/>
  </joint>
  <gazebo reference="finger_2_joint_proximal_actuating_hinge">
    <implicitSpringDamper>1</implicitSpringDamper>
  </gazebo>
  <!-- Joint paraproximal actuating hinge -->
  <joint name="finger_2_joint_paraproximal_actuating_hinge" type="revolute">
    <parent link="finger_2_link_0"/>
    <child link="finger_2_link_paraproximal_actuating_hinge"/>
    <axis xyz="0 0 1"/>
    <origin rpy="0 0 -2.0906" xyz="0 0 -0.01"/>
    <limit effort="100" lower="-3.1416" upper="3.1416" velocity="100"/>
  </joint>
  <gazebo reference="finger_2_joint_paraproximal_actuating_hinge">
    <implicitSpringDamper>1</implicitSpringDamper>
  </gazebo>
  <!-- Joint proximal actuating bar -->
  <joint name="finger_2_joint_proximal_actuating_bar" type="revolute">
    <parent link="finger_2_link_proximal_actuating_hinge"/>
    <child link="finger_2_link_proximal_actuating_bar"/>
    <axis xyz="0 0 1"/>
    <origin rpy="0 0 1.8616" xyz="0.02858 0 0"/>
    <limit effort="100" lower="-3.1416" upper="3.1416" velocity="100"/>
  </joint>
  <gazebo reference="finger_2_joint_proximal_actuating_bar">
    <implicitSpringDamper>1</implicitSpringDamper>
  </gazebo>
  <!-- Joint paraproximal bar -->
  <joint name="finger_2_joint_paraproximal_bar" type="revolute">
    <parent link="finger_2_link_paraproximal_actuating_hinge"/>
    <child link="finger_2_link_paraproximal_bar"/>
    <axis xyz="0 0 1"/>
    <origin rpy="0 0 1.57" xyz="0.02286 0 0"/>
    <limit effort="100" lower="-3.1416" upper="3.1416" velocity="100"/>
  </joint>
  <gazebo reference="finger_2_joint_paraproximal_bar">
    <implicitSpringDamper>1</implicitSpringDamper>
  </gazebo>
  <!-- Joint median actuating hinge -->
  <joint name="finger_2_joint_median_actuating_hinge" type="revolute">
    <parent link="finger_2_link_1"/>
    <child link="finger_2_link_median_actuating_hinge"/>
    <axis xyz="0 0 1"/>
    <origin rpy="0 0 -0.37" xyz="0 0.05715 0.01"/>
    <limit effort="100" lower="-3.1416" upper="3.1416" velocity="100"/>
  </joint>
  <gazebo reference="finger_2_joint_median_actuating_hinge">
    <implicitSpringDamper>1</implicitSpringDamper>
  </gazebo>
  <!-- Joint paramedian hinge -->
  <joint name="finger_2_joint_paramedian_hinge" type="revolute">
    <parent link="finger_2_link_1"/>
    <child link="finger_2_link_paramedian_hinge"/>
    <axis xyz="0 0 1"/>
    <!-- -0.37 is hand picked, 0.9719 is hand calculated from atan(0.02381/0.01625) -->
    <origin rpy="0 0 0" xyz="0 0.05715 -0.01"/>
    <limit effort="100" lower="-3.1416" upper="3.1416" velocity="100"/>
  </joint>
  <gazebo reference="finger_2_joint_paramedian_hinge">
    <implicitSpringDamper>1</implicitSpringDamper>
  </gazebo>
  <!-- Joint median actuating hinge median bar -->
  <joint name="finger_2_joint_median_actuating_hinge_median_bar" type="revolute">
    <parent link="finger_2_link_median_actuating_hinge"/>
    <child link="finger_2_link_median_bar"/>
    <axis xyz="0 0 1"/>
    <!-- hand calc 90 deg + atan(0.01516/0.01625) -->
    <origin rpy="0 0 2.3215" xyz="0.01625 0.01516 0"/>
    <limit effort="100" lower="-3.1416" upper="3.1416" velocity="100"/>
  </joint>
  <gazebo reference="finger_2_joint_median_actuating_hinge_median_bar">
    <implicitSpringDamper>1</implicitSpringDamper>
  </gazebo>
  <!-- Joint paradistal hinge -->
  <joint name="finger_2_joint_paradistal_hinge" type="revolute">
    <parent link="finger_2_link_2"/>
    <child link="finger_2_link_paradistal_hinge"/>
    <axis xyz="0 0 1"/>
    <origin rpy="0 0 0" xyz="0 0.039 -0.01"/>
    <limit effort="100" lower="-3.1416" upper="3.1416" velocity="100"/>
  </joint>
  <gazebo reference="finger_2_joint_paradistal_hinge">
    <implicitSpringDamper>1</implicitSpringDamper>
  </gazebo>
  <!-- Joint paramedian hinge median bar underactuated -->
  <joint name="finger_2_joint_paramedian_hinge_median_bar_underactuated" type="revolute">
    <parent link="finger_2_link_paramedian_hinge"/>
    <child link="finger_2_link_median_bar_underactuated"/>
    <axis xyz="0 0 1"/>
    <!-- hand calc 90 deg + atan(0.01227/0.00329) -->
    <origin rpy="0 0 1.5708" xyz="0.01227 0.00329 0"/>
    <limit effort="100" lower="-3.1416" upper="3.1416" velocity="100"/>
  </joint>
  <gazebo reference="finger_2_joint_paramedian_hinge_median_bar_underactuated">
    <implicitSpringDamper>1</implicitSpringDamper>
  </gazebo>
  <!-- Joint 1 -->
  <joint name="finger_2_joint_1" type="revolute">
    <origin rpy="0 0 -2.0906" xyz="0 0 0"/>
    <axis xyz="0 0 1"/>
    <parent link="finger_2_link_0"/>
    <child link="finger_2_link_1"/>
    <dynamics damping="1" friction="0"/>
    <!-- Limits: [0deg.,70deg.] -->
    <limit effort="60" lower="0" upper="1.2217" velocity="-1"/>
  </joint>
  <gazebo reference="finger_2_joint_1">
    <implicitSpringDamper>1</implicitSpringDamper>
  </gazebo>
  <!-- Joint 2 -->
  <joint name="finger_2_joint_2" type="revolute">
    <parent link="finger_2_link_1"/>
    <child link="finger_2_link_2"/>
    <dynamics damping="1" friction="0"/>
    <axis xyz="0 0 1"/>
    <origin rpy="0 0 0" xyz="0 0.05715 0"/>
    <!-- Limits: [0deg.,90deg.] -->
    <limit effort="60" lower="0" upper="1.5708" velocity="-1"/>
  </joint>
  <gazebo reference="finger_2_joint_2">
    <implicitSpringDamper>1</implicitSpringDamper>
  </gazebo>
  <!-- Joint 3 -->
  <joint name="finger_2_joint_3" type="revolute">
    <parent link="finger_2_link_2"/>
    <child link="finger_2_link_3"/>
    <dynamics damping="1" friction="0"/>
    <axis xyz="0 0 1"/>
    <origin rpy="0 0 2.0906" xyz="0 0.039 0"/>
    <!-- Limits: [-38deg.,60deg.] -->
    <limit effort="60" lower="-0.6632" upper="1.0471" velocity="-1"/>
  </joint>
  <gazebo reference="finger_2_joint_3">
    <implicitSpringDamper>1</implicitSpringDamper>
  </gazebo>
  <!-- end of joint list -->
  <!-- coupling joints in sdf -->
  <gazebo>
    <joint name="finger_2_link_proximal_actuating_bar_median_actuating_hinge_couple" type="revolute">
      <parent>finger_2_link_median_actuating_hinge</parent>
      <child>finger_2_link_proximal_actuating_bar</child>
      <pose>0.05398 0 0 0 0 0</pose>
      <axis>
        <dynamics>
          <damping>0</damping>
          <friction>0</friction>
        </dynamics>
        <xyz>0 0 1</xyz>
        <use_parent_model_frame>false</use_parent_model_frame>
      </axis>
    </joint>
  </gazebo>
  <gazebo reference="finger_2_link_proximal_actuating_bar_median_actuating_hinge_couple">
    <implicitSpringDamper>1</implicitSpringDamper>
  </gazebo>
  <gazebo>
    <joint name="finger_2_link_median_bar_link_3_couple" type="revolute">
      <parent>finger_2_link_3</parent>
      <child>finger_2_link_median_bar</child>
      <pose>0.0381 0 0 0 0 0</pose>
      <axis>
        <dynamics>
          <damping>0</damping>
          <friction>0</friction>
        </dynamics>
        <xyz>0 0 1</xyz>
        <use_parent_model_frame>false</use_parent_model_frame>
      </axis>
    </joint>
  </gazebo>
  <gazebo reference="finger_2_link_median_bar_link_3_couple">
    <implicitSpringDamper>1</implicitSpringDamper>
  </gazebo>
  <gazebo>
    <joint name="finger_2_link_paramedian_bar_paradistal_hinge_couple" type="revolute">
      <parent>finger_2_link_paradistal_hinge</parent>
      <child>finger_2_link_median_bar_underactuated</child>
      <pose>0.0381 0 0 0 0 0</pose>
      <axis>
        <dynamics>
          <damping>0</damping>
          <friction>0</friction>
        </dynamics>
        <xyz>0 0 1</xyz>
        <use_parent_model_frame>false</use_parent_model_frame>
      </axis>
    </joint>
  </gazebo>
  <gazebo reference="finger_2_link_median_bar_link_3_couple">
    <implicitSpringDamper>1</implicitSpringDamper>
  </gazebo>
  <gazebo>
    <joint name="finger_2_link_paradistal_hinge_link_3_couple" type="revolute">
      <parent>finger_2_link_paradistal_hinge</parent>
      <child>finger_2_link_3</child>
      <pose>0.0381 0 0 0 0 0</pose>
      <axis>
        <dynamics>
          <damping>0</damping>
          <friction>0</friction>
        </dynamics>
        <xyz>0 0 1</xyz>
        <use_parent_model_frame>false</use_parent_model_frame>
      </axis>
    </joint>
  </gazebo>
  <gazebo reference="finger_2_link_paradistal_hinge_link_3_couple">
    <implicitSpringDamper>1</implicitSpringDamper>
  </gazebo>
  <gazebo>
    <joint name="finger_2_link_paraproximal_bar_paramedian_hinge_couple" type="revolute">
      <parent>finger_2_link_paramedian_hinge</parent>
      <child>finger_2_link_paraproximal_bar</child>
      <pose>0.05770 0 0 0 0 0</pose>
      <axis>
        <dynamics>
          <damping>0</damping>
          <friction>0</friction>
        </dynamics>
        <xyz>0 0 1</xyz>
        <use_parent_model_frame>false</use_parent_model_frame>
      </axis>
    </joint>
  </gazebo>
  <gazebo reference="finger_2_link_paraproximal_bar_paramedian_hinge_couple">
    <implicitSpringDamper>1</implicitSpringDamper>
  </gazebo>
  
 --&gt;

  
  <!-- Link list -->
  <!-- Link 0 -->
  <link name="finger_middle_link_0">
    <visual>
      <origin rpy="0 0 0" xyz="0 0 0"/>
      <geometry>
        <mesh filename="package://iiwa_3finger_description/meshes/visual/link_0.STL"/>
      </geometry>
      <material name="Grey">
        <!-- <color rgba="0 1 0 1"/> -->
      </material>
    </visual>
    <collision>
      <origin rpy="0 0 0" xyz="0 0 0"/>
      <geometry>
        <mesh filename="package://iiwa_3finger_description/meshes/collision/link_0.STL"/>
      </geometry>
      <material name="Grey">
        <!-- <color rgba="0 1 1 1"/> -->
      </material>
    </collision>
    <inertial>
      <mass value="0.1"/>
      <origin xyz="-0.01 0 0"/>
      <inertia ixx="0.000018" ixy="0" ixz="0" iyy="0.000025" iyz="0" izz="0.000025"/>
    </inertial>
  </link>
  <gazebo reference="finger_middle_link_0">
    <mu1>1.1</mu1>
    <mu2>1.1</mu2>
  </gazebo>
  <!-- Link 1 -->
  <link name="finger_middle_link_1">
    <visual>
      <origin rpy="0 0 1.5708" xyz="0 0.05717 0"/>
      <geometry>
        <mesh filename="package://iiwa_3finger_description/meshes/visual/link_1.STL"/>
      </geometry>
      <material name="Grey"/>
    </visual>
    <collision>
      <origin rpy="0 0 1.5708" xyz="0 0.05717 0"/>
      <geometry>
        <mesh filename="package://iiwa_3finger_description/meshes/collision/link_1.STL"/>
      </geometry>
      <material name="Grey">
        <!-- <color rgba="0 1 1 1"/> -->
      </material>
    </collision>
    <inertial>
      <origin rpy="0 0 1.5708" xyz="0.00053 0.03218 0"/>
      <mass value="0.047"/>
      <inertia ixx="0.00000499332" ixy="0.00000091312" ixz="-0.00000000120" iyy="0.00006434531" iyz="-0.00000000007" izz="0.00006061917"/>
    </inertial>
  </link>
  <gazebo reference="finger_middle_link_1">
    <mu1>1.1</mu1>
    <mu2>1.1</mu2>
    <minDepth>0.001</minDepth>
  </gazebo>
  <!-- Link 2 -->
  <link name="finger_middle_link_2">
    <visual>
      <origin rpy="0 0 1.5708" xyz="0 0.03810 0.0075"/>
      <geometry>
        <mesh filename="package://iiwa_3finger_description/meshes/visual/link_2.STL"/>
      </geometry>
      <material name="Grey"/>
    </visual>
    <collision>
      <origin rpy="0 0 1.5708" xyz="0 0.03810 0.0075"/>
      <geometry>
        <mesh filename="package://iiwa_3finger_description/meshes/collision/link_2.STL"/>
      </geometry>
      <material name="Grey"/>
    </collision>
    <inertial>
      <origin rpy="0 0 1.5708" xyz="0.00048 0.02167 0.00018"/>
      <mass value="0.03284"/>
      <inertia ixx="0.00000348008" ixy="0.00000031940" ixz="0.00000013041" iyy="0.00002248123" iyz="0.00000000291" izz="0.00001986346"/>
    </inertial>
  </link>
  <gazebo reference="finger_middle_link_2">
    <mu1>1.1</mu1>
    <mu2>1.1</mu2>
    <minDepth>0.001</minDepth>
  </gazebo>
  <!-- Link 3 -->
  <link name="finger_middle_link_3">
    <visual>
      <origin rpy="0 0 0" xyz="0 0 0"/>
      <geometry>
        <mesh filename="package://iiwa_3finger_description/meshes/visual/link_3.STL"/>
      </geometry>
      <material name="Grey"/>
    </visual>
    <collision>
      <origin rpy="0 0 0" xyz="0 0 0"/>
      <geometry>
        <mesh filename="package://iiwa_3finger_description/meshes/collision/link_3.STL"/>
      </geometry>
      <material name="Grey"/>
    </collision>
    <inertial>
      <origin rpy="0 0 0" xyz="0.01626 0.00049 0.0002"/>
      <mass value="0.03354"/>
      <inertia ixx="0.00000305151" ixy="0.00000089792" ixz="0.00000000249" iyy="0.00001427978" iyz="-0.00000001191" izz="0.00001264126"/>
    </inertial>
  </link>
  <gazebo reference="finger_middle_link_3">
    <mu1>1.1</mu1>
    <mu2>1.1</mu2>
    <minDepth>0.001</minDepth>
  </gazebo>
  <!-- Link proximal actuating hinge -->
  <link name="finger_middle_link_proximal_actuating_hinge">
    <visual>
      <origin rpy="0 0 0" xyz="0.01429 0 0"/>
      <geometry>
        <box size="0.02858 .0075 .002"/>
      </geometry>
    </visual>
    <collision>
      <origin rpy="0 0 0" xyz="0.01429 0 0"/>
      <geometry>
        <box size="0.02858 .0075 .002"/>
      </geometry>
    </collision>
    <inertial>
      <origin rpy="0 0 0" xyz="0.0012 -0.00162 -0.00161"/>
      <mass value="0.02647"/>
      <inertia ixx="0.00000156447" ixy="0.000000236226" ixz="-0.00000014862" iyy="0.00000221068" iyz="-0.00000014369" izz="0.00000323175"/>
    </inertial>
  </link>
  <gazebo reference="finger_middle_link_proximal_actuating_hinge">
    <mu1>1.1</mu1>
    <mu2>1.1</mu2>
  </gazebo>
  <!-- Link paraproximal actuating hinge -->
  <link name="finger_middle_link_paraproximal_actuating_hinge">
    <visual>
      <origin rpy="0 0 0" xyz="0.01143 0 0"/>
      <geometry>
        <box size="0.02286 .0075 .002"/>
      </geometry>
    </visual>
    <collision>
      <origin rpy="0 0 0" xyz="0.01143 0 0"/>
      <geometry>
        <box size="0.02286 .0075 .002"/>
      </geometry>
    </collision>
    <inertial>
      <origin rpy="0 0 0" xyz="0.0064 0 0"/>
      <!-- copied from proximal_actuating_hinge -->
      <mass value="0.00362"/>
      <inertia ixx="0.00000012043" ixy="0" ixz="0" iyy="0.00000053588" iyz="0" izz="0.00000065322"/>
    </inertial>
  </link>
  <gazebo reference="finger_middle_link_paraproximal_actuating_hinge">
    <mu1>1.1</mu1>
    <mu2>1.1</mu2>
  </gazebo>
  <!-- Link proximal actuating bar -->
  <link name="finger_middle_link_proximal_actuating_bar">
    <visual>
      <origin rpy="0 0 0" xyz="0.026789 0 0"/>
      <geometry>
        <box size="0.05398 .0075 .002"/>
      </geometry>
    </visual>
    <collision>
      <origin rpy="0 0 0" xyz="0.026789 0 0"/>
      <geometry>
        <box size="0.05398 .0075 .002"/>
      </geometry>
    </collision>
    <inertial>
      <origin rpy="0 0 0" xyz="0.02699 -0.00122 0"/>
      <mass value="0.00659"/>
      <inertia ixx="0.00000008348" ixy="-0.0000002179" ixz="0.00000000134" iyy="0.00000719076" iyz="0" izz="0.00000718272"/>
    </inertial>
  </link>
  <gazebo reference="finger_middle_link_proximal_actuating_bar">
    <mu1>1.1</mu1>
    <mu2>1.1</mu2>
  </gazebo>
  <!-- Link paraproximal bar -->
  <link name="finger_middle_link_paraproximal_bar">
    <visual>
      <origin rpy="0 0 0" xyz="0.02885 0 0"/>
      <geometry>
        <box size="0.05770 .0075 .002"/>
      </geometry>
    </visual>
    <collision>
      <origin rpy="0 0 0" xyz="0.02885 0 0"/>
      <geometry>
        <box size="0.05770 .0075 .002"/>
      </geometry>
    </collision>
    <inertial>
      <origin rpy="0 0 0" xyz="0.02858 -0.00129 0"/>
      <mass value="0.00732"/>
      <inertia ixx="0.00000009065" ixy="-0.00000027047" ixz="0.00000000142" iyy="0.00000878034" iyz="0" izz="0.00000877558"/>
    </inertial>
  </link>
  <gazebo reference="finger_middle_link_paraproximal_bar">
    <mu1>1.1</mu1>
    <mu2>1.1</mu2>
  </gazebo>
  <!-- Link median actuating hinge -->
  <link name="finger_middle_link_median_actuating_hinge">
    <visual>
      <origin rpy="0 0 0" xyz="0 0 0"/>
      <geometry>
        <box size=".02 .02 .002"/>
      </geometry>
    </visual>
    <collision>
      <origin rpy="0 0 0" xyz="0 0 0"/>
      <geometry>
        <box size=".02 .02 .002"/>
      </geometry>
    </collision>
    <inertial>
      <origin rpy="0 0 0" xyz="0.0092 0.00514 0"/>
      <mass value="0.00359"/>
      <inertia ixx="0.00000024735" ixy="0.00000023619" ixz="0" iyy="0.00000047681" iyz="0" izz="0.00000071813"/>
    </inertial>
  </link>
  <gazebo reference="finger_middle_link_median_actuating_hinge">
    <mu1>1.1</mu1>
    <mu2>1.1</mu2>
  </gazebo>
  <!-- Link median bar -->
  <link name="finger_middle_link_median_bar">
    <visual>
      <origin rpy="0 0 0" xyz="0.01905 0 0"/>
      <geometry>
        <box size="0.0381 .0075 .002"/>
      </geometry>
    </visual>
    <collision>
      <origin rpy="0 0 0" xyz="0.01905 0 0"/>
      <geometry>
        <box size="0.0381 .0075 .002"/>
      </geometry>
    </collision>
    <inertial>
      <origin rpy="0 0 0" xyz="0.01905 -0.00107 0"/>
      <mass value="0.00538"/>
      <inertia ixx="0.00000006639" ixy="-0.00000010996" ixz="0.00000000094" iyy="0.00000305318" iyz="0" izz="0.00000304657"/>
    </inertial>
  </link>
  <gazebo reference="finger_middle_link_median_bar">
    <mu1>1.1</mu1>
    <mu2>1.1</mu2>
  </gazebo>
  <!-- Link paramedian hinge -->
  <link name="finger_middle_link_paramedian_hinge">
    <visual>
      <origin rpy="0 0 0" xyz="0 0 0"/>
      <geometry>
        <box size=".02 .02 .002"/>
      </geometry>
    </visual>
    <collision>
      <origin rpy="0 0 0" xyz="0 0 0"/>
      <geometry>
        <box size=".02 .02 .002"/>
      </geometry>
    </collision>
    <inertial>
      <origin rpy="0 0 0" xyz="-0.01025 0.00046 0"/>
      <mass value="0.00276"/>
      <inertia ixx="0.00000004213" ixy="-0.00000001491" ixz="0" iyy="0.00000050258" iyz="0" izz="0.00000054007"/>
    </inertial>
  </link>
  <gazebo reference="finger_middle_link_paramedian_hinge">
    <mu1>1.1</mu1>
    <mu2>1.1</mu2>
  </gazebo>
  <!-- Link median bar underactuated -->
  <link name="finger_middle_link_median_bar_underactuated">
    <visual>
      <origin rpy="0 0 0" xyz="0.01905 0 0"/>
      <geometry>
        <box size="0.0381 .0075 .002"/>
      </geometry>
    </visual>
    <collision>
      <origin rpy="0 0 0" xyz="0.01905 0 0"/>
      <geometry>
        <box size="0.0381 .0075 .002"/>
      </geometry>
    </collision>
    <inertial>
      <origin rpy="0 0 0" xyz="0.01905 -0.00107 0"/>
      <mass value="0.00538"/>
      <inertia ixx="0.00000006639" ixy="-0.00000010996" ixz="-0.00000000094" iyy="0.00000305318" iyz="0" izz="0.00000304657"/>
    </inertial>
  </link>
  <gazebo reference="finger_middle_link_median_bar_underactuated">
    <mu1>1.1</mu1>
    <mu2>1.1</mu2>
  </gazebo>
  <!-- Link paradistal hinge -->
  <link name="finger_middle_link_paradistal_hinge">
    <visual>
      <origin rpy="0 0 0" xyz="0 0 0"/>
      <geometry>
        <box size=".02 .02 .002"/>
      </geometry>
    </visual>
    <collision>
      <origin rpy="0 0 0" xyz="0 0 0"/>
      <geometry>
        <box size=".02 0.02 .002"/>
      </geometry>
    </collision>
    <inertial>
      <origin rpy="0 0 0" xyz="0.00548 0 0"/>
      <mass value="0.00158"/>
      <inertia ixx="0.00000001907" ixy="0" ixz="0" iyy="0.00000010970" iyz="0" izz="0.00000012610"/>
    </inertial>
  </link>
  <gazebo reference="finger_middle_link_paradistal_hinge">
    <mu1>1.1</mu1>
    <mu2>1.1</mu2>
  </gazebo>
  <!-- End of link list -->
  <!-- Joint list -->
  <!-- Joint proximal actuating hinge -->
  <joint name="finger_middle_joint_proximal_actuating_hinge" type="revolute">
    <parent link="finger_middle_link_0"/>
    <child link="finger_middle_link_proximal_actuating_hinge"/>
    <axis xyz="0 0 1"/>
    <origin rpy="0 0 -2.0906" xyz="0 0 0.01"/>
    <limit effort="100" lower="-3.1416" upper="3.1416" velocity="100"/>
  </joint>
  <gazebo reference="finger_middle_joint_proximal_actuating_hinge">
    <implicitSpringDamper>1</implicitSpringDamper>
  </gazebo>
  <!-- Joint paraproximal actuating hinge -->
  <joint name="finger_middle_joint_paraproximal_actuating_hinge" type="revolute">
    <parent link="finger_middle_link_0"/>
    <child link="finger_middle_link_paraproximal_actuating_hinge"/>
    <axis xyz="0 0 1"/>
    <origin rpy="0 0 -2.0906" xyz="0 0 -0.01"/>
    <limit effort="100" lower="-3.1416" upper="3.1416" velocity="100"/>
  </joint>
  <gazebo reference="finger_middle_joint_paraproximal_actuating_hinge">
    <implicitSpringDamper>1</implicitSpringDamper>
  </gazebo>
  <!-- Joint proximal actuating bar -->
  <joint name="finger_middle_joint_proximal_actuating_bar" type="revolute">
    <parent link="finger_middle_link_proximal_actuating_hinge"/>
    <child link="finger_middle_link_proximal_actuating_bar"/>
    <axis xyz="0 0 1"/>
    <origin rpy="0 0 1.8616" xyz="0.02858 0 0"/>
    <limit effort="100" lower="-3.1416" upper="3.1416" velocity="100"/>
  </joint>
  <gazebo reference="finger_middle_joint_proximal_actuating_bar">
    <implicitSpringDamper>1</implicitSpringDamper>
  </gazebo>
  <!-- Joint paraproximal bar -->
  <joint name="finger_middle_joint_paraproximal_bar" type="revolute">
    <parent link="finger_middle_link_paraproximal_actuating_hinge"/>
    <child link="finger_middle_link_paraproximal_bar"/>
    <axis xyz="0 0 1"/>
    <origin rpy="0 0 1.57" xyz="0.02286 0 0"/>
    <limit effort="100" lower="-3.1416" upper="3.1416" velocity="100"/>
  </joint>
  <gazebo reference="finger_middle_joint_paraproximal_bar">
    <implicitSpringDamper>1</implicitSpringDamper>
  </gazebo>
  <!-- Joint median actuating hinge -->
  <joint name="finger_middle_joint_median_actuating_hinge" type="revolute">
    <parent link="finger_middle_link_1"/>
    <child link="finger_middle_link_median_actuating_hinge"/>
    <axis xyz="0 0 1"/>
    <origin rpy="0 0 -0.37" xyz="0 0.05715 0.01"/>
    <limit effort="100" lower="-3.1416" upper="3.1416" velocity="100"/>
  </joint>
  <gazebo reference="finger_middle_joint_median_actuating_hinge">
    <implicitSpringDamper>1</implicitSpringDamper>
  </gazebo>
  <!-- Joint paramedian hinge -->
  <joint name="finger_middle_joint_paramedian_hinge" type="revolute">
    <parent link="finger_middle_link_1"/>
    <child link="finger_middle_link_paramedian_hinge"/>
    <axis xyz="0 0 1"/>
    <!-- -0.37 is hand picked, 0.9719 is hand calculated from atan(0.02381/0.01625) -->
    <origin rpy="0 0 0" xyz="0 0.05715 -0.01"/>
    <limit effort="100" lower="-3.1416" upper="3.1416" velocity="100"/>
  </joint>
  <gazebo reference="finger_middle_joint_paramedian_hinge">
    <implicitSpringDamper>1</implicitSpringDamper>
  </gazebo>
  <!-- Joint median actuating hinge median bar -->
  <joint name="finger_middle_joint_median_actuating_hinge_median_bar" type="revolute">
    <parent link="finger_middle_link_median_actuating_hinge"/>
    <child link="finger_middle_link_median_bar"/>
    <axis xyz="0 0 1"/>
    <!-- hand calc 90 deg + atan(0.01516/0.01625) -->
    <origin rpy="0 0 2.3215" xyz="0.01625 0.01516 0"/>
    <limit effort="100" lower="-3.1416" upper="3.1416" velocity="100"/>
  </joint>
  <gazebo reference="finger_middle_joint_median_actuating_hinge_median_bar">
    <implicitSpringDamper>1</implicitSpringDamper>
  </gazebo>
  <!-- Joint paradistal hinge -->
  <joint name="finger_middle_joint_paradistal_hinge" type="revolute">
    <parent link="finger_middle_link_2"/>
    <child link="finger_middle_link_paradistal_hinge"/>
    <axis xyz="0 0 1"/>
    <origin rpy="0 0 0" xyz="0 0.039 -0.01"/>
    <limit effort="100" lower="-3.1416" upper="3.1416" velocity="100"/>
  </joint>
  <gazebo reference="finger_middle_joint_paradistal_hinge">
    <implicitSpringDamper>1</implicitSpringDamper>
  </gazebo>
  <!-- Joint paramedian hinge median bar underactuated -->
  <joint name="finger_middle_joint_paramedian_hinge_median_bar_underactuated" type="revolute">
    <parent link="finger_middle_link_paramedian_hinge"/>
    <child link="finger_middle_link_median_bar_underactuated"/>
    <axis xyz="0 0 1"/>
    <!-- hand calc 90 deg + atan(0.01227/0.00329) -->
    <origin rpy="0 0 1.5708" xyz="0.01227 0.00329 0"/>
    <limit effort="100" lower="-3.1416" upper="3.1416" velocity="100"/>
  </joint>
  <gazebo reference="finger_middle_joint_paramedian_hinge_median_bar_underactuated">
    <implicitSpringDamper>1</implicitSpringDamper>
  </gazebo>
  <!-- Joint 1 -->
  <joint name="finger_middle_joint_1" type="revolute">
    <origin rpy="0 0 -2.0906" xyz="0 0 0"/>
    <axis xyz="0 0 1"/>
    <parent link="finger_middle_link_0"/>
    <child link="finger_middle_link_1"/>
    <dynamics damping="1" friction="0"/>
    <!-- Limits: [0deg.,70deg.] -->
    <limit effort="60" lower="0" upper="1.2217" velocity="-1"/>
  </joint>
  <gazebo reference="finger_middle_joint_1">
    <implicitSpringDamper>1</implicitSpringDamper>
  </gazebo>
  <!-- Joint 2 -->
  <joint name="finger_middle_joint_2" type="revolute">
    <parent link="finger_middle_link_1"/>
    <child link="finger_middle_link_2"/>
    <dynamics damping="1" friction="0"/>
    <axis xyz="0 0 1"/>
    <origin rpy="0 0 0" xyz="0 0.05715 0"/>
    <!-- Limits: [0deg.,90deg.] -->
    <limit effort="60" lower="0" upper="1.5708" velocity="-1"/>
  </joint>
  <gazebo reference="finger_middle_joint_2">
    <implicitSpringDamper>1</implicitSpringDamper>
  </gazebo>
  <!-- Joint 3 -->
  <joint name="finger_middle_joint_3" type="revolute">
    <parent link="finger_middle_link_2"/>
    <child link="finger_middle_link_3"/>
    <dynamics damping="1" friction="0"/>
    <axis xyz="0 0 1"/>
    <origin rpy="0 0 2.0906" xyz="0 0.039 0"/>
    <!-- Limits: [-38deg.,60deg.] -->
    <limit effort="60" lower="-0.6632" upper="1.0471" velocity="-1"/>
  </joint>
  <gazebo reference="finger_middle_joint_3">
    <implicitSpringDamper>1</implicitSpringDamper>
  </gazebo>
  <!-- end of joint list -->
  <!-- coupling joints in sdf -->
  <gazebo>
    <joint name="finger_middle_link_proximal_actuating_bar_median_actuating_hinge_couple" type="revolute">
      <parent>finger_middle_link_median_actuating_hinge</parent>
      <child>finger_middle_link_proximal_actuating_bar</child>
      <pose>0.05398 0 0 0 0 0</pose>
      <axis>
        <dynamics>
          <damping>0</damping>
          <friction>0</friction>
        </dynamics>
        <xyz>0 0 1</xyz>
        <use_parent_model_frame>false</use_parent_model_frame>
      </axis>
    </joint>
  </gazebo>
  <gazebo reference="finger_middle_link_proximal_actuating_bar_median_actuating_hinge_couple">
    <implicitSpringDamper>1</implicitSpringDamper>
  </gazebo>
  <gazebo>
    <joint name="finger_middle_link_median_bar_link_3_couple" type="revolute">
      <parent>finger_middle_link_3</parent>
      <child>finger_middle_link_median_bar</child>
      <pose>0.0381 0 0 0 0 0</pose>
      <axis>
        <dynamics>
          <damping>0</damping>
          <friction>0</friction>
        </dynamics>
        <xyz>0 0 1</xyz>
        <use_parent_model_frame>false</use_parent_model_frame>
      </axis>
    </joint>
  </gazebo>
  <gazebo reference="finger_middle_link_median_bar_link_3_couple">
    <implicitSpringDamper>1</implicitSpringDamper>
  </gazebo>
  <gazebo>
    <joint name="finger_middle_link_paramedian_bar_paradistal_hinge_couple" type="revolute">
      <parent>finger_middle_link_paradistal_hinge</parent>
      <child>finger_middle_link_median_bar_underactuated</child>
      <pose>0.0381 0 0 0 0 0</pose>
      <axis>
        <dynamics>
          <damping>0</damping>
          <friction>0</friction>
        </dynamics>
        <xyz>0 0 1</xyz>
        <use_parent_model_frame>false</use_parent_model_frame>
      </axis>
    </joint>
  </gazebo>
  <gazebo reference="finger_middle_link_median_bar_link_3_couple">
    <implicitSpringDamper>1</implicitSpringDamper>
  </gazebo>
  <gazebo>
    <joint name="finger_middle_link_paradistal_hinge_link_3_couple" type="revolute">
      <parent>finger_middle_link_paradistal_hinge</parent>
      <child>finger_middle_link_3</child>
      <pose>0.0381 0 0 0 0 0</pose>
      <axis>
        <dynamics>
          <damping>0</damping>
          <friction>0</friction>
        </dynamics>
        <xyz>0 0 1</xyz>
        <use_parent_model_frame>false</use_parent_model_frame>
      </axis>
    </joint>
  </gazebo>
  <gazebo reference="finger_middle_link_paradistal_hinge_link_3_couple">
    <implicitSpringDamper>1</implicitSpringDamper>
  </gazebo>
  <gazebo>
    <joint name="finger_middle_link_paraproximal_bar_paramedian_hinge_couple" type="revolute">
      <parent>finger_middle_link_paramedian_hinge</parent>
      <child>finger_middle_link_paraproximal_bar</child>
      <pose>0.05770 0 0 0 0 0</pose>
      <axis>
        <dynamics>
          <damping>0</damping>
          <friction>0</friction>
        </dynamics>
        <xyz>0 0 1</xyz>
        <use_parent_model_frame>false</use_parent_model_frame>
      </axis>
    </joint>
  </gazebo>
  <gazebo reference="finger_middle_link_paraproximal_bar_paramedian_hinge_couple">
    <implicitSpringDamper>1</implicitSpringDamper>
  </gazebo>
  
 --&gt;

  
  <!-- link list -->
  <!-- Link palm -->
  <link name="palm">
    <visual>
      <geometry>
        <mesh filename="package://iiwa_3finger_description/meshes/visual/palm.STL"/>
      </geometry>
      <material name="Black">
        <!-- <color rgba="0 1 0 1"/> -->
      </material>
    </visual>
    <!-- Mesh collision -->
    <collision>
      <geometry>
        <mesh filename="package://iiwa_3finger_description/meshes/collision/palm.STL"/>
      </geometry>
      <material name="Grey">
        <color rgba="0 1 1 1"/>
      </material>
    </collision>
    <!-- Simple shape collision -->
    <collision>
      <origin rpy="0 0 0" xyz="0 0 0"/>
      <geometry>
        <box size="0.1 0.1 0.1"/>
      </geometry>
      <material name="Grey">
        <!-- <color rgba="0 1 1 1"/> -->
      </material>
    </collision>
    <inertial>
      <origin rpy="0 0 0" xyz="0 0 0"/>
      <mass value="1.3"/>
      <inertia ixx="0.0035" ixy="0" ixz="-0" iyy="0.0035" iyz="0" izz="0.0035"/>
    </inertial>
  </link>
  <gazebo reference="palm">
    <mu1>1.1</mu1>
    <mu2>1.1</mu2>
  </gazebo>
  <!-- End of link list -->
  <!-- Joint list -->
  <!-- Joint palm_finger_1_joint -->
  <joint name="palm_finger_1_joint" type="revolute">
    <parent link="palm"/>
    <child link="finger_1_link_0"/>
    <dynamics damping="1" friction="0"/>
    <axis xyz="0 1 0"/>
    <origin rpy="0 3.1416 -1.57" xyz="-0.0455 0.0214 0.036"/>
    <!-- Limits: [-17deg.,17deg.] -->
    <limit effort="60" lower="-0.2967" upper="0.2967" velocity="-1"/>
  </joint>
  <gazebo reference="palm_finger_1_joint">
    <implicitSpringDamper>1</implicitSpringDamper>
  </gazebo>
  <!-- Joint palm_finger_2_joint -->
  <joint name="palm_finger_2_joint" type="revolute">
    <parent link="palm"/>
    <child link="finger_2_link_0"/>
    <dynamics damping="1" friction="0"/>
    <axis xyz="0 1 0"/>
    <origin rpy="0 3.1416 -1.57" xyz="-0.0455 0.0214 -0.036"/>
    <!-- Limits: [-17deg.,17deg.] -->
    <limit effort="60" lower="-0.2967" upper="0.2967" velocity="-1"/>
  </joint>
  <gazebo reference="palm_finger_2_joint">
    <implicitSpringDamper>1</implicitSpringDamper>
  </gazebo>
  <!-- Joint palm_finger_middle_joint -->
  <joint name="palm_finger_middle_joint" type="revolute">
    <parent link="palm"/>
    <child link="finger_middle_link_0"/>
    <dynamics damping="1" friction="0"/>
    <axis xyz="0 1 0"/>
    <origin rpy="0 0 1.57" xyz="0.0455 0.0214 0"/>
    <limit effort="60" lower="0" upper="0" velocity="-1"/>
  </joint>
  <gazebo reference="palm_finger_middle_joint">
    <implicitSpringDamper>1</implicitSpringDamper>
  </gazebo>
</robot>
